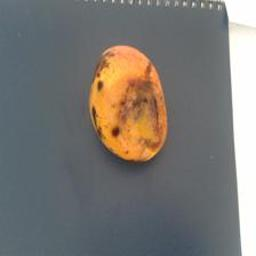Mango Rotten: (79, 29, 178, 178)
